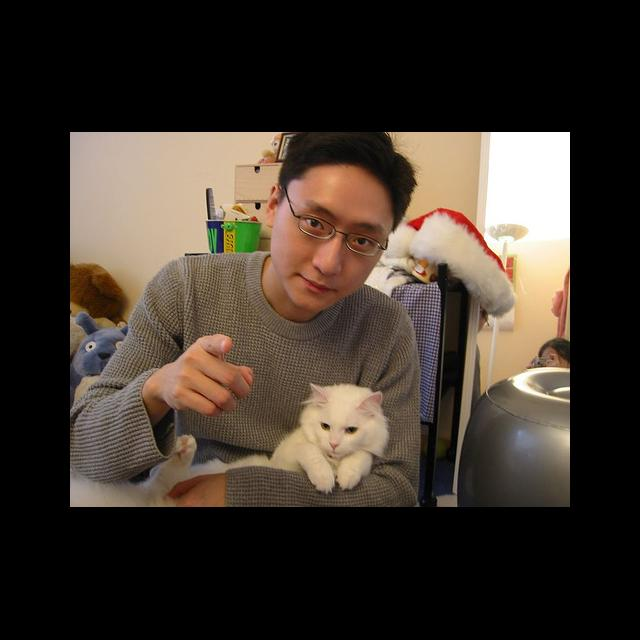animals: (310, 382, 380, 448)
